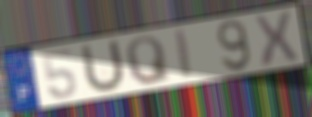5: (39, 46, 78, 100)
9: (213, 18, 254, 73)
I: (173, 26, 196, 82)
Q: (123, 34, 173, 87)
U: (80, 37, 127, 96)
X: (251, 9, 301, 70)
